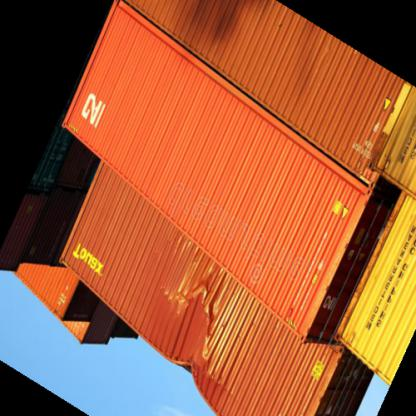Damage: (164, 266, 238, 370)
